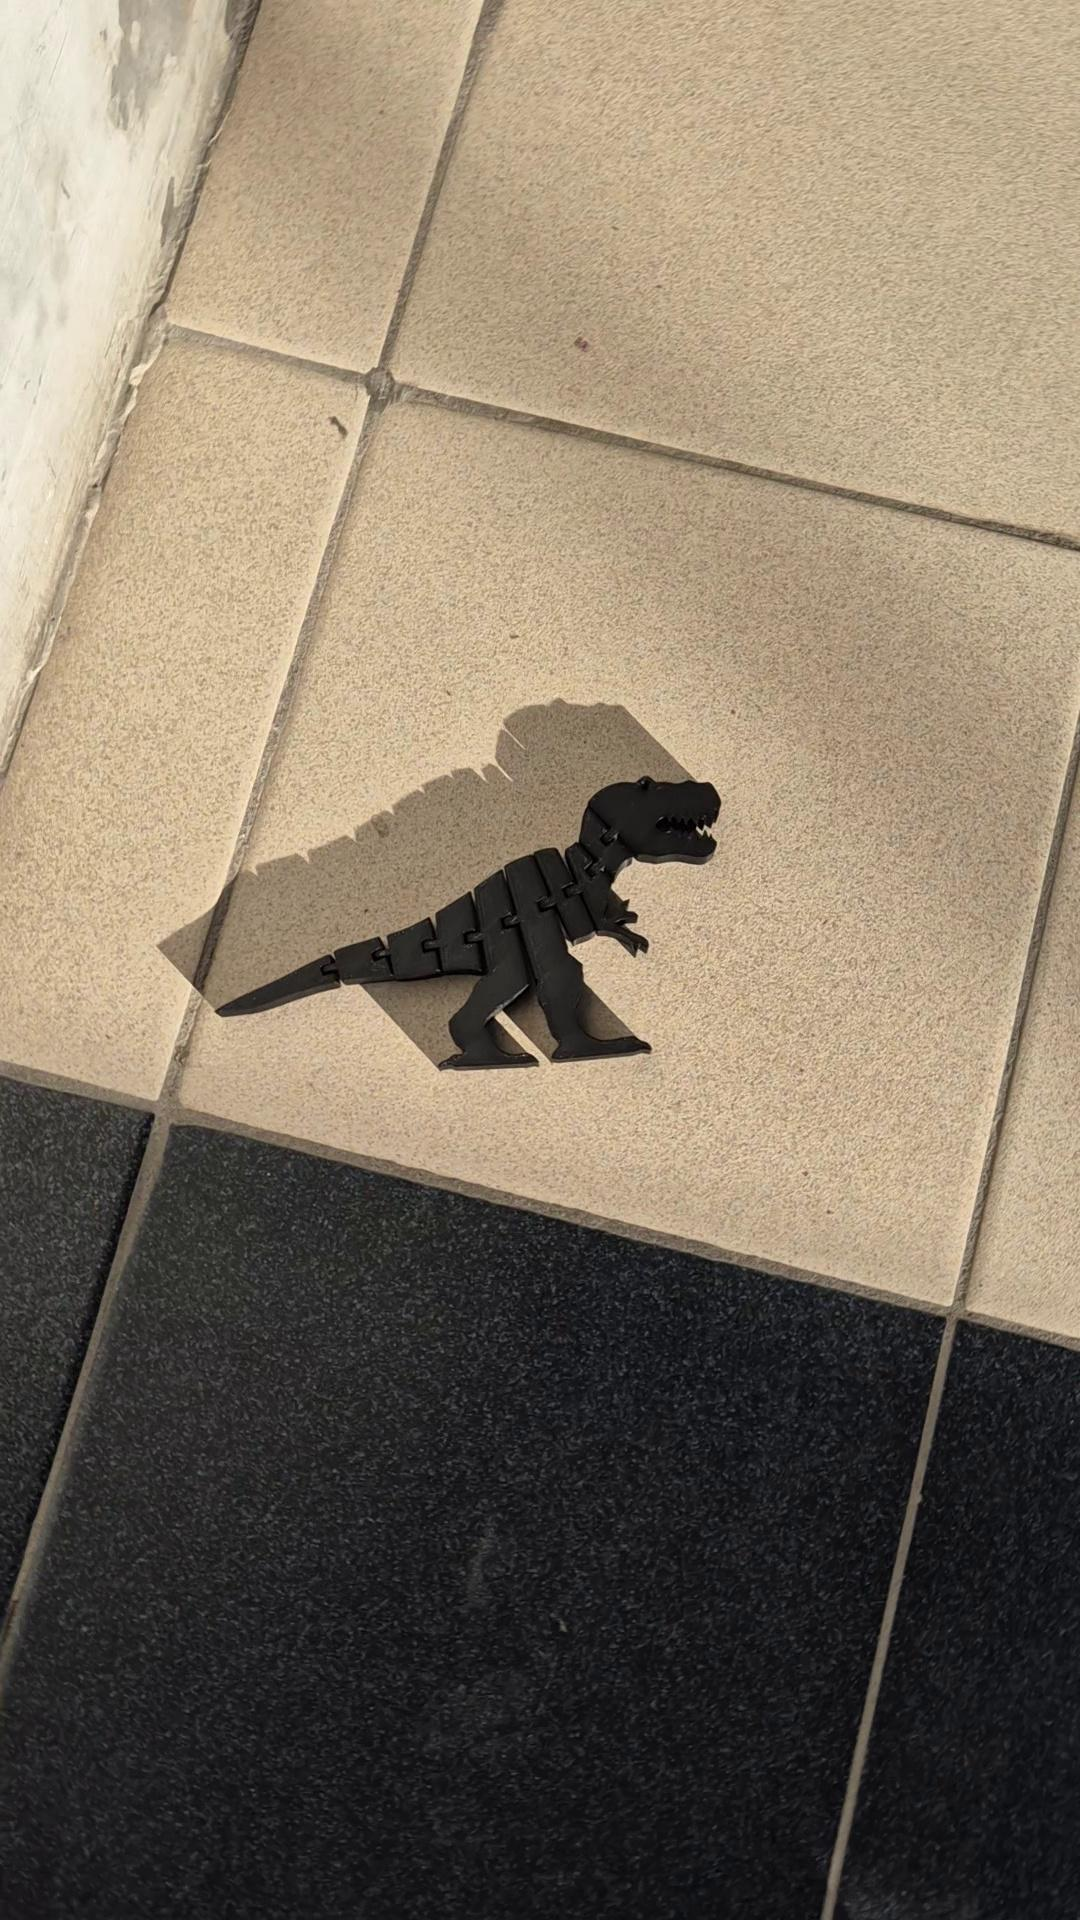dinosaur: (212, 774, 724, 1072)
